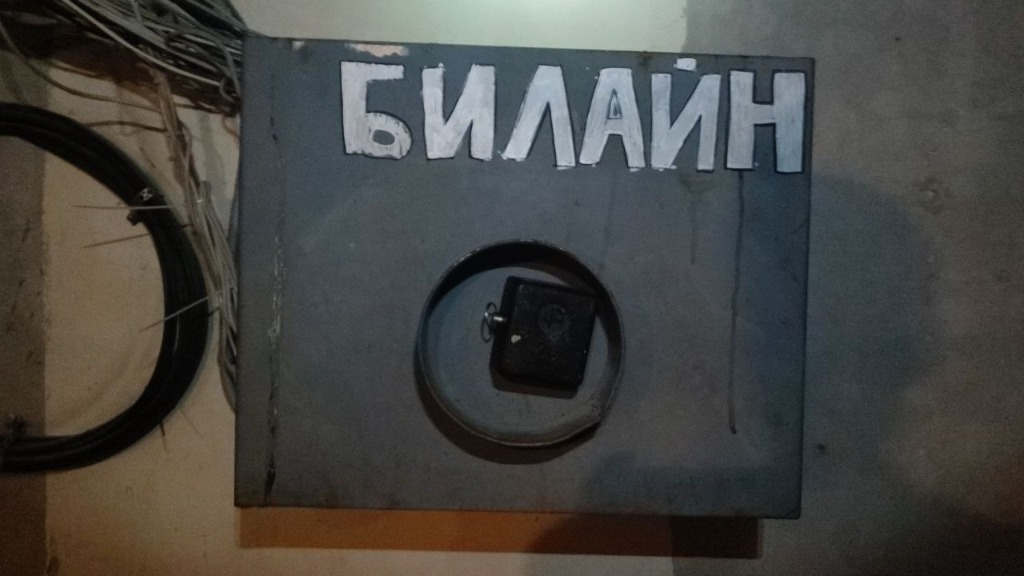shta-3: (228, 29, 819, 523)
